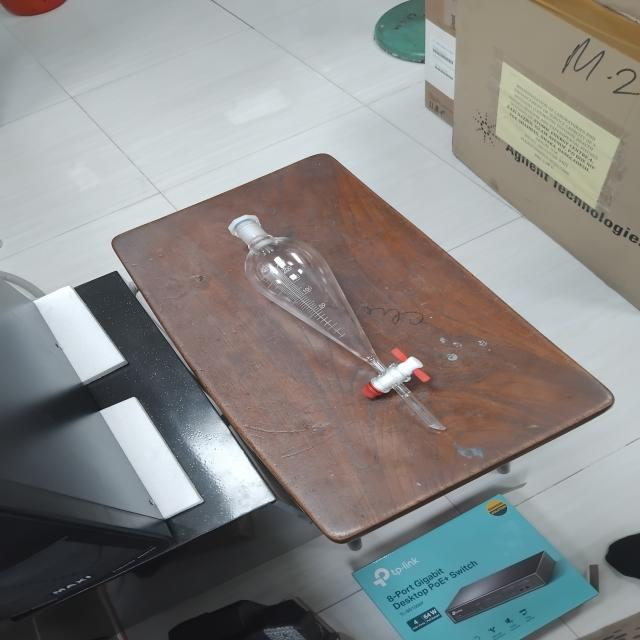Separating_Funnel: (194, 187, 475, 453)
